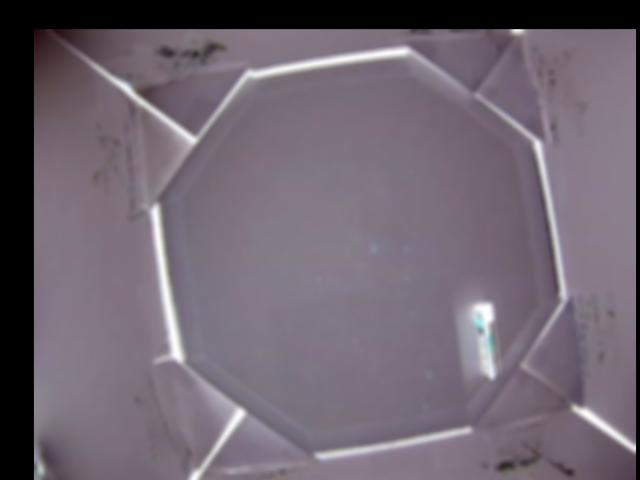Battery: (472, 302, 498, 382)
